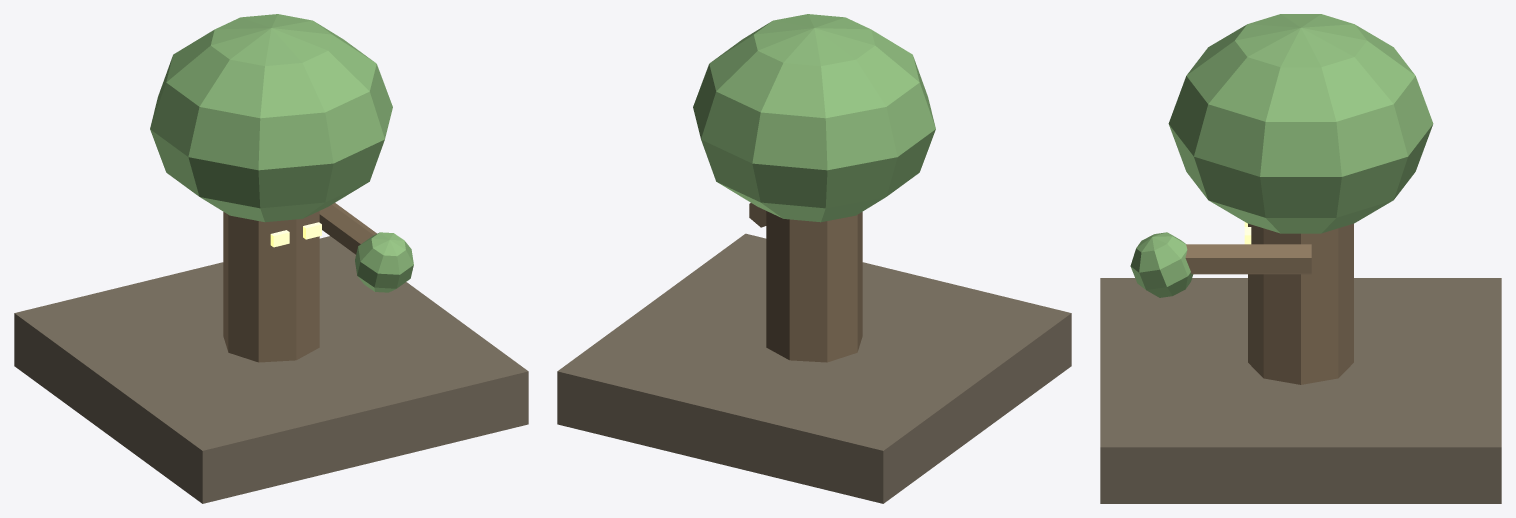
The model's file is elf_ent.glb.
3 renders of one model, left to right at view 1: azimuth 30°, elevation 25°; view 2: azimuth 150°, elevation 25°; view 3: azimuth 270°, elevation 25°, orthographic. The views are drawn at different scales.
Visible parts, largest first — view 1: Base, TurretMesh, BranchMesh, TurretGlow; view 2: Base, TurretMesh; view 3: Base, TurretMesh, BranchMesh.
Part boxes in pixels (x1,y1,x2,y2): Base: (14,236,528,503); TurretMesh: (150,14,392,362); BranchMesh: (319,203,413,292); TurretGlow: (270,222,321,247); Base: (557,233,1071,503); TurretMesh: (693,14,935,362); Base: (1100,278,1501,503); TurretMesh: (1168,14,1433,384); BranchMesh: (1130,232,1311,297).
Bounding box in the file's own units: 1.8 × 1.94 × 1.8.
